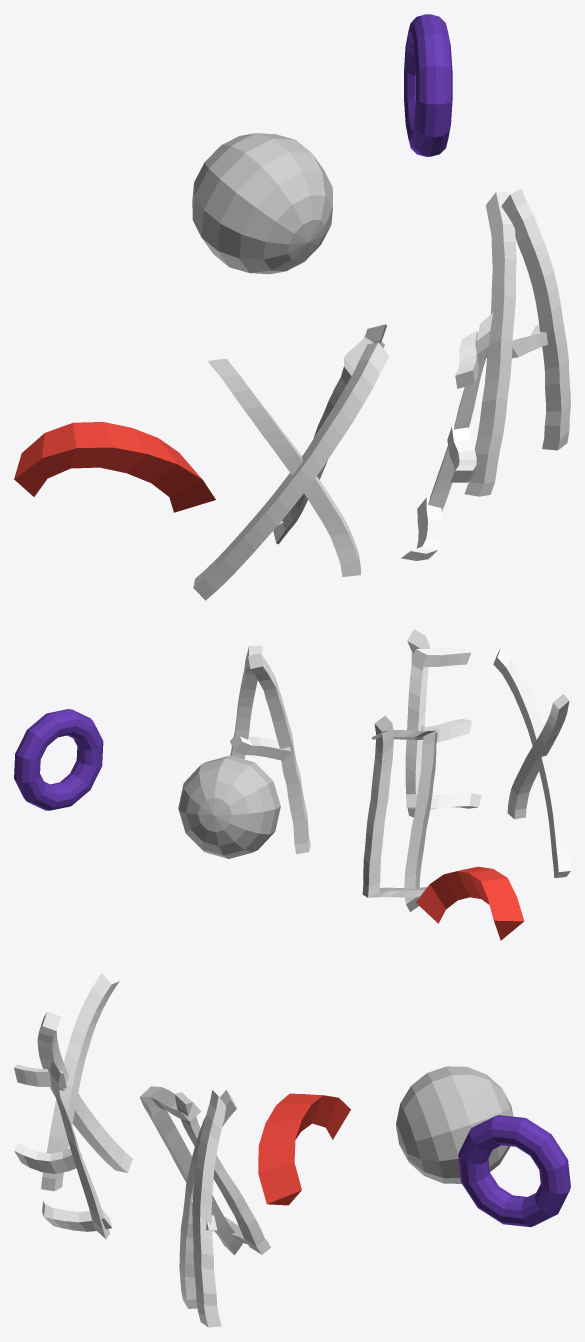
3 renders of one model, top to bottom at view 1: azimuth 30°, elevation 25°; view 2: azimuth 150°, elevation 25°; view 3: azimuth 270°, elevation 25°, orthographic. The views are drawn at different scales.
Parts seen in each view (by area): view 1: mesh_1868899495, group_763741417, group_1597519489, group_1189879814, group_624435964, mesh_417627182, group_153564126, group_1482867144, group_719040253, group_1641367249, group_1715023404, group_267013651; view 2: mesh_1868899495, mesh_417627182, group_763741417, group_1597519489, group_1537492861, group_1189879814, group_719040253, group_1482867144, group_153564126, group_624435964, group_267013651, group_391532375 (+2 smaller); view 3: mesh_1868899495, mesh_417627182, group_763741417, group_624435964, group_153564126, group_719040253, group_1597519489, group_1537492861, group_1189879814, group_1482867144, group_1715023404, group_1641367249 (+1 smaller).
Boxes of the visible parts, x1,y1,x2,y2 form: mesh_1868899495: [192, 133, 332, 274]; group_763741417: [14, 422, 215, 512]; group_1597519489: [193, 342, 389, 600]; group_1189879814: [464, 192, 516, 496]; group_624435964: [501, 189, 570, 450]; mesh_417627182: [404, 14, 452, 156]; group_153564126: [208, 358, 360, 576]; group_1482867144: [417, 312, 493, 525]; group_719040253: [273, 337, 384, 544]; group_1641367249: [401, 497, 443, 560]; group_1715023404: [447, 426, 476, 482]; group_267013651: [455, 330, 478, 388]; mesh_1868899495: [178, 755, 280, 858]; mesh_417627182: [14, 709, 103, 810]; group_763741417: [415, 866, 524, 940]; group_1597519489: [493, 647, 570, 878]; group_1537492861: [362, 715, 427, 897]; group_1189879814: [248, 653, 310, 854]; group_719040253: [371, 729, 437, 911]; group_1482867144: [405, 629, 429, 817]; group_153564126: [507, 694, 569, 819]; group_624435964: [230, 645, 262, 759]; group_267013651: [411, 646, 471, 666]; group_391532375: [230, 736, 291, 760]; mesh_1868899495: [396, 1066, 513, 1183]; mesh_417627182: [458, 1115, 570, 1227]; group_763741417: [258, 1093, 350, 1205]; group_624435964: [192, 1090, 226, 1327]; group_153564126: [41, 969, 119, 1191]; group_719040253: [139, 1086, 242, 1254]; group_1597519489: [37, 1011, 132, 1172]; group_1537492861: [174, 1092, 270, 1254]; group_1189879814: [179, 1090, 236, 1308]; group_1482867144: [47, 1060, 110, 1238]; group_1715023404: [14, 1142, 76, 1173]; group_1641367249: [42, 1201, 112, 1231].
Size of the model in its own units: 172 by 94.21 by 178.
